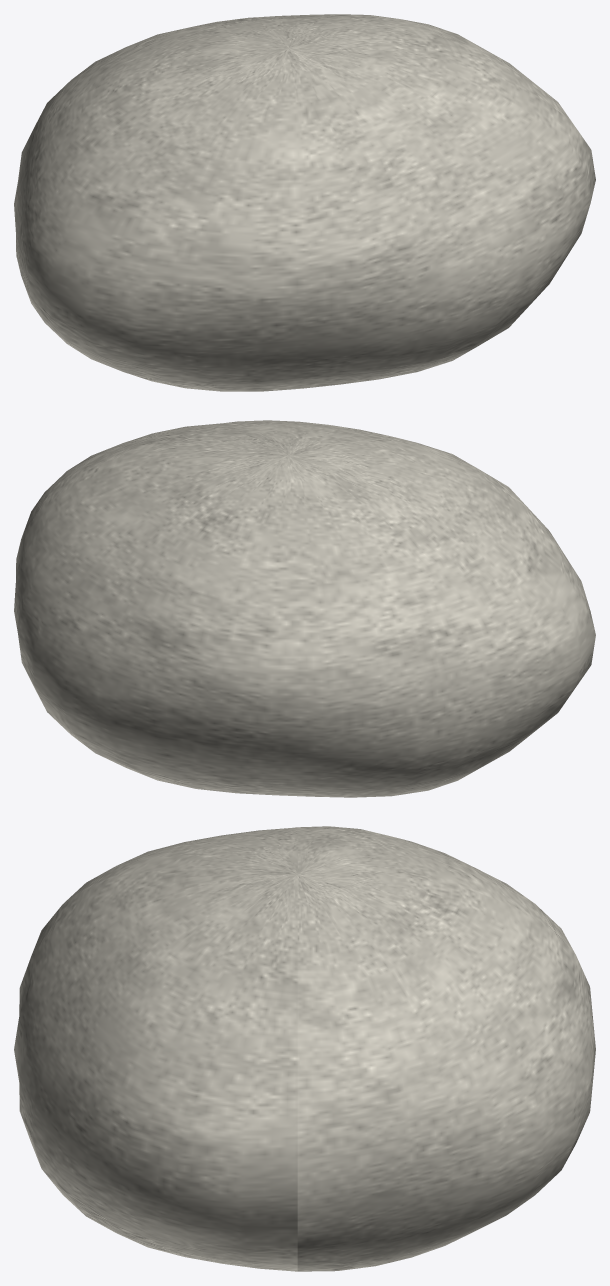
File: guti_pebble_light.glb
3 views of the same model, one above another, from view 1: azimuth 30°, elevation 25°; view 2: azimuth 150°, elevation 25°; view 3: azimuth 270°, elevation 25° (orthographic). The views are drawn at different scales.
Visible parts, largest first — view 1: guti_pebble_light; view 2: guti_pebble_light; view 3: guti_pebble_light.
Boxes of the visible parts, left/top/right/bottom form: guti_pebble_light: left=14, top=14, right=595, bottom=391; guti_pebble_light: left=14, top=420, right=595, bottom=797; guti_pebble_light: left=14, top=826, right=595, bottom=1271.
Bounding box in the file's own units: 0.025 × 0.012 × 0.021.
1 material, 1 textured.
